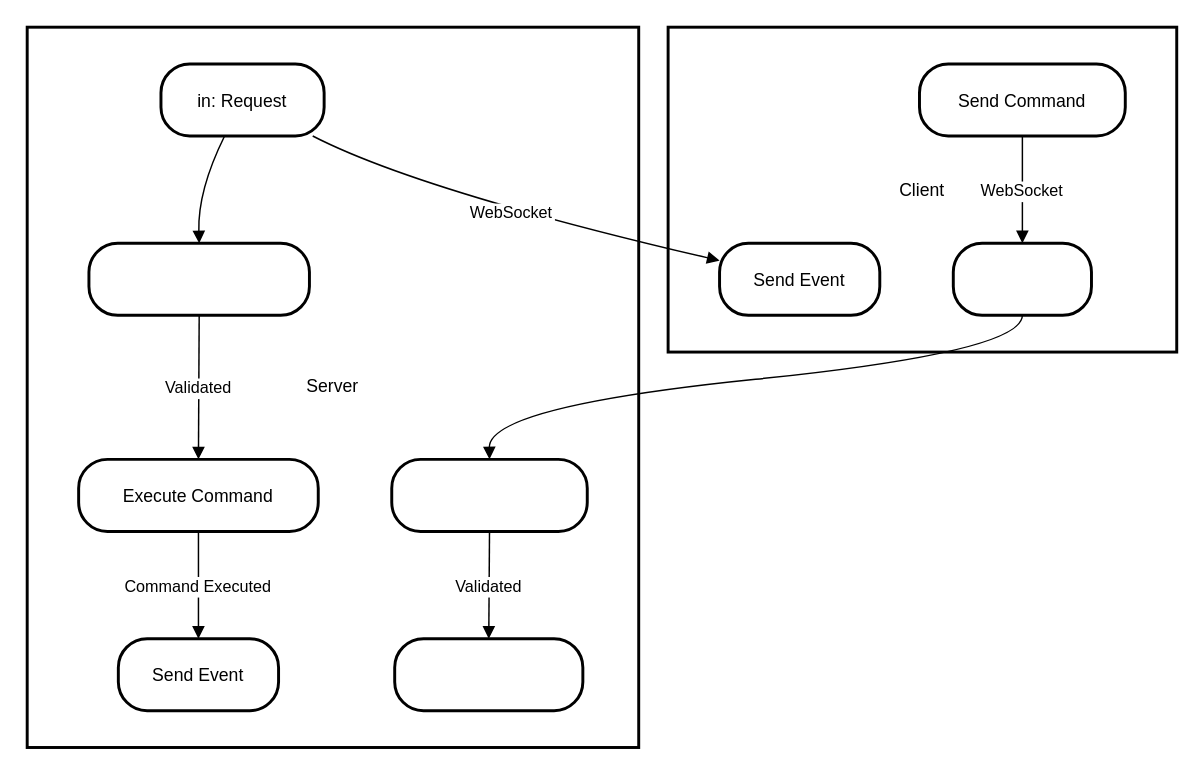
Some shapes in this 1202 by 773 pixel diagram are drawn without their labels. Each missing label, with the centre of its shape:
"in: Event" goes at (1021,278).
"Process Event" goes at (488,674).
"Validate Event" goes at (489,494).
"Validate Request" goes at (198,278).
